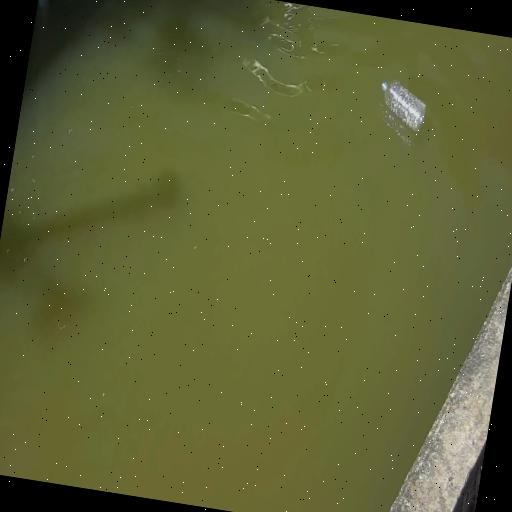plastic: (374, 76, 431, 133)
